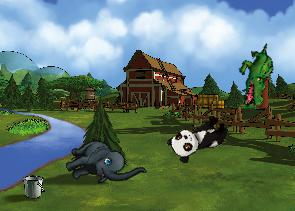crocodile: (234, 43, 279, 108)
elephant: (59, 123, 147, 205)
panda: (165, 109, 232, 166)
